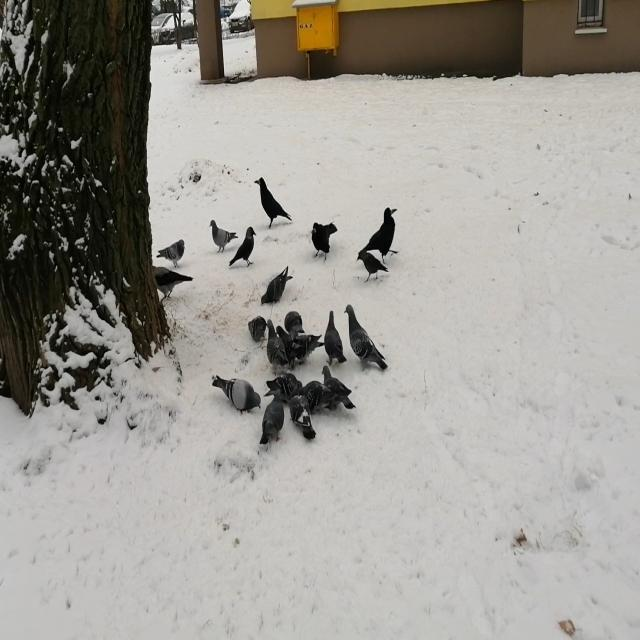bird: (344, 304, 387, 373), (254, 176, 292, 230), (363, 207, 397, 260), (214, 375, 261, 411), (153, 264, 193, 300), (322, 366, 354, 410), (261, 390, 284, 444), (290, 394, 316, 440), (262, 265, 291, 306), (324, 311, 345, 365), (229, 226, 256, 267), (268, 320, 287, 372), (300, 381, 334, 410), (312, 221, 338, 258), (357, 250, 387, 282), (210, 219, 236, 254), (157, 239, 185, 267), (294, 334, 319, 360), (249, 318, 265, 342)
